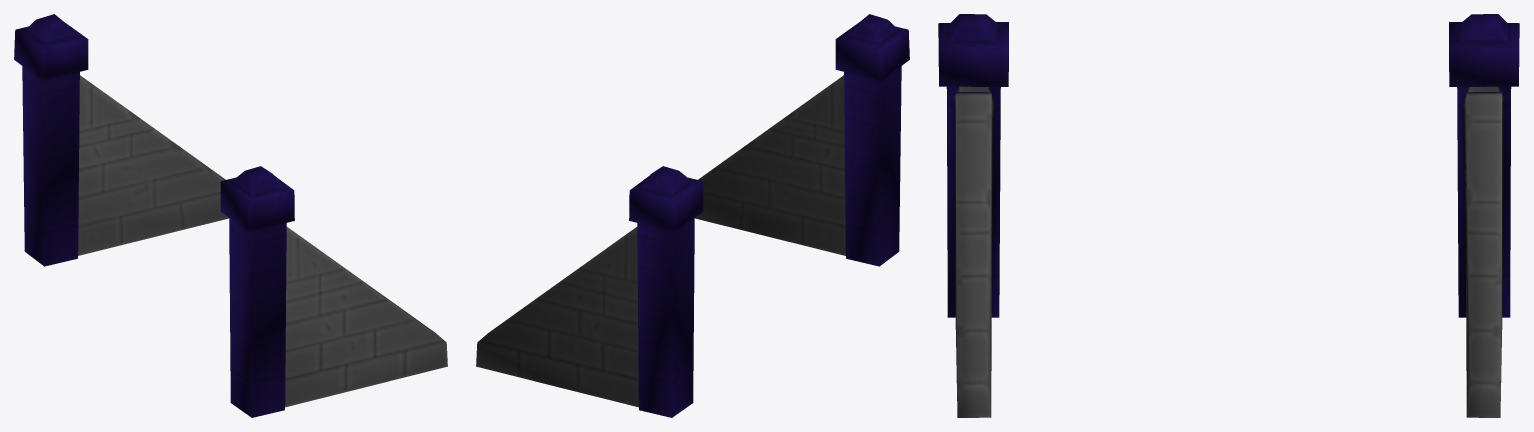
Rendered from StairSides.fbx.
3 renders of one model, left to right at view 1: azimuth 30°, elevation 25°; view 2: azimuth 150°, elevation 25°; view 3: azimuth 270°, elevation 25°, orthographic. The views are drawn at different scales.
Visible parts, largest first — view 1: StairSides_LowPoly; view 2: StairSides_LowPoly; view 3: StairSides_LowPoly.
Part boxes in pixels (left/top/right/bottom): StairSides_LowPoly: left=14, top=14, right=447, bottom=417; StairSides_LowPoly: left=476, top=14, right=909, bottom=417; StairSides_LowPoly: left=938, top=14, right=1519, bottom=417.
Size of the model in its own units: 123 by 133 by 242.
